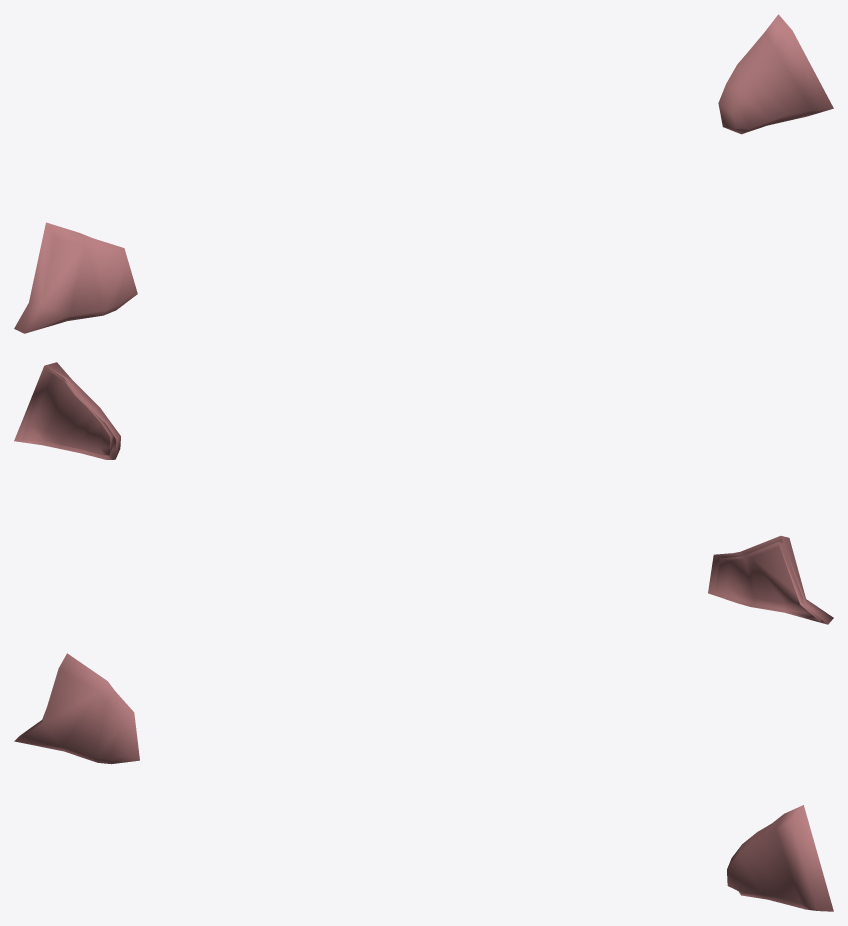
File: Gawain_RIG_add_lacrima.fbx
3 renders of one model, top to bottom at view 1: azimuth 30°, elevation 25°; view 2: azimuth 150°, elevation 25°; view 3: azimuth 330°, elevation 25°, orthographic. The views are drawn at different scales.
Parts seen in each view (by area): view 1: Lacrima_right_low_top, Lacrima_left_low_top; view 2: Lacrima_left_low, Lacrima_right_low, Lacrima_left_low_top, Lacrima_right_low_top; view 3: Lacrima_right_low_top, Lacrima_left_low_top.
Boxes of the visible parts, box(x1,y1,x2,y2) form: Lacrima_right_low_top: box(14, 222, 137, 333); Lacrima_left_low_top: box(718, 14, 833, 134); Lacrima_left_low: box(21, 368, 113, 455); Lacrima_right_low: box(715, 542, 821, 621); Lacrima_left_low_top: box(14, 362, 120, 459); Lacrima_right_low_top: box(708, 536, 833, 624); Lacrima_right_low_top: box(14, 653, 139, 764); Lacrima_left_low_top: box(727, 805, 833, 911).
Size of the model in its own units: 5.24 by 0.6281 by 0.4078.
